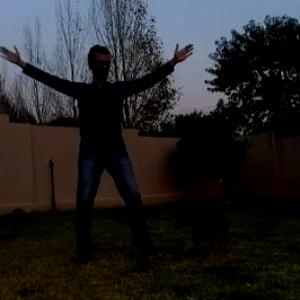takeoff: (1, 34, 182, 259)
